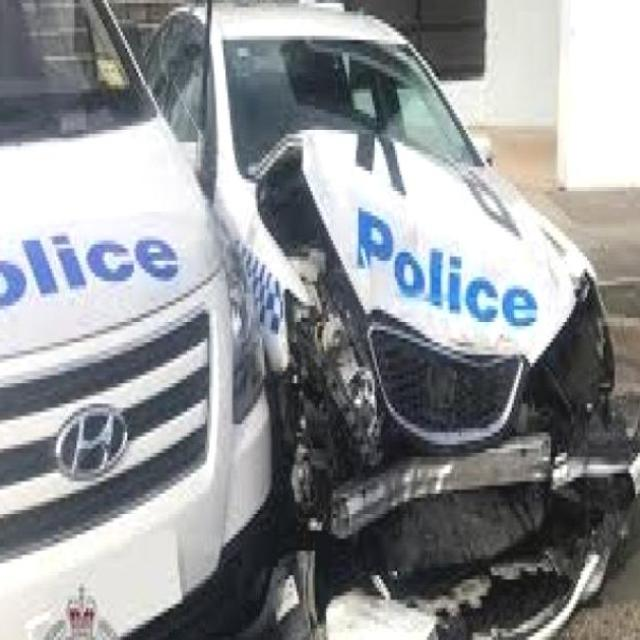accident: (125, 47, 640, 640)
